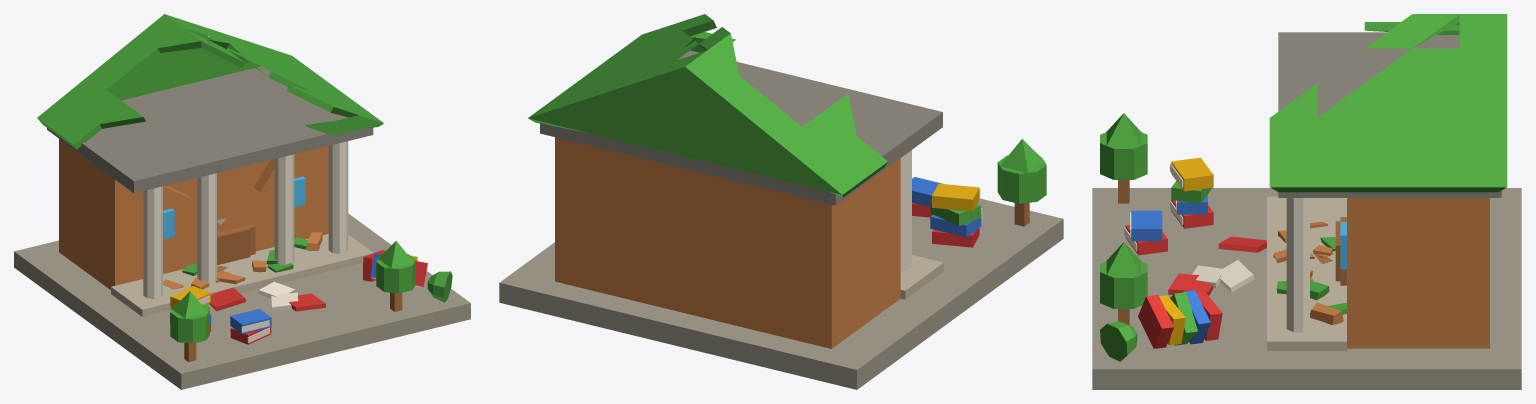
The model's file is library_t2_v2_dmg1.glb.
The picture shows the model from 3 angles, left to right: view 1: azimuth 30°, elevation 25°; view 2: azimuth 150°, elevation 25°; view 3: azimuth 270°, elevation 25°; orthographic projection. The views are drawn at different scales.
Parts seen in each view (by area): view 1: library_t2_v2_dmg1; view 2: library_t2_v2_dmg1; view 3: library_t2_v2_dmg1.
Part boxes in pixels (x1,y1,x2,y2): library_t2_v2_dmg1: (14, 14, 470, 389); library_t2_v2_dmg1: (499, 14, 1063, 389); library_t2_v2_dmg1: (1092, 14, 1521, 389).
Bounding box in the file's own units: 0.75 × 0.55 × 0.75.
1 material, 1 textured.
